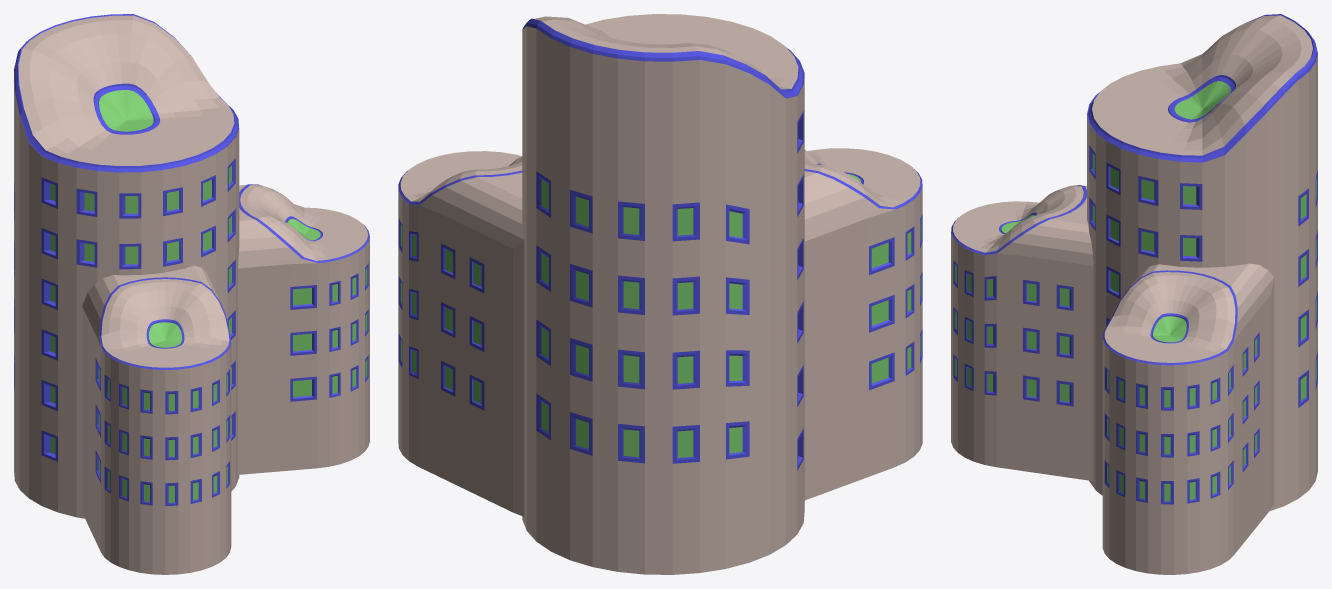
File: Logement_M.fbx
The picture shows the model from 3 angles, left to right: view 1: azimuth 30°, elevation 25°; view 2: azimuth 150°, elevation 25°; view 3: azimuth 270°, elevation 25°; orthographic projection. The views are drawn at different scales.
Parts seen in each view (by area): view 1: Cylinder.005; view 2: Cylinder.005; view 3: Cylinder.005.
Part boxes in pixels (x1,y1,x2,y2): Cylinder.005: (14, 14, 369, 574); Cylinder.005: (398, 14, 922, 574); Cylinder.005: (951, 14, 1317, 574).
Size of the model in its own units: 1455 by 1767 by 1384.
